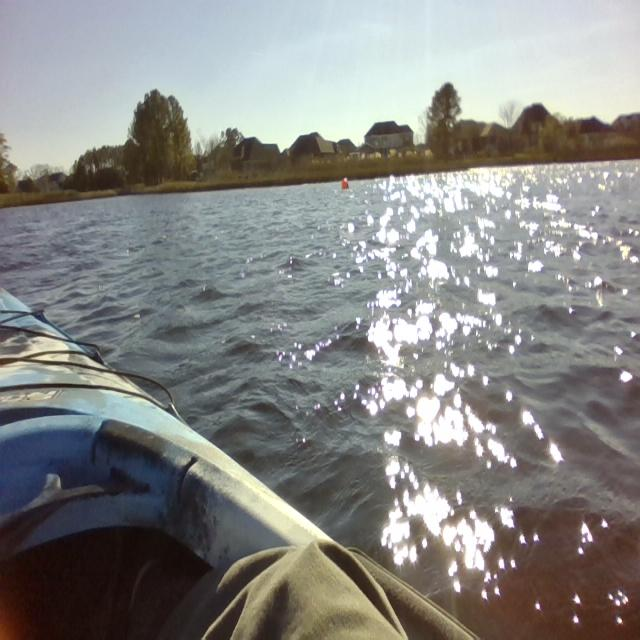Buoy: (338, 174, 352, 196)
